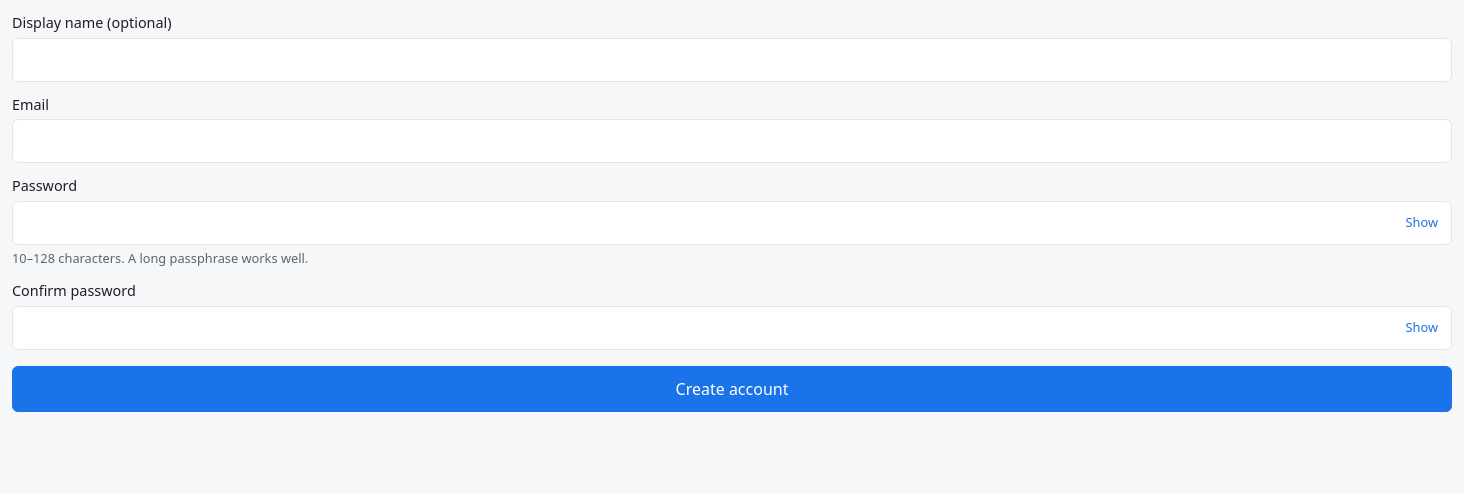
RegisterForm › shows the throttling message
Type "new@example.com" into the field labelled "Email" at (732, 141), box x1=12 y1=119 x2=1452 y2=163
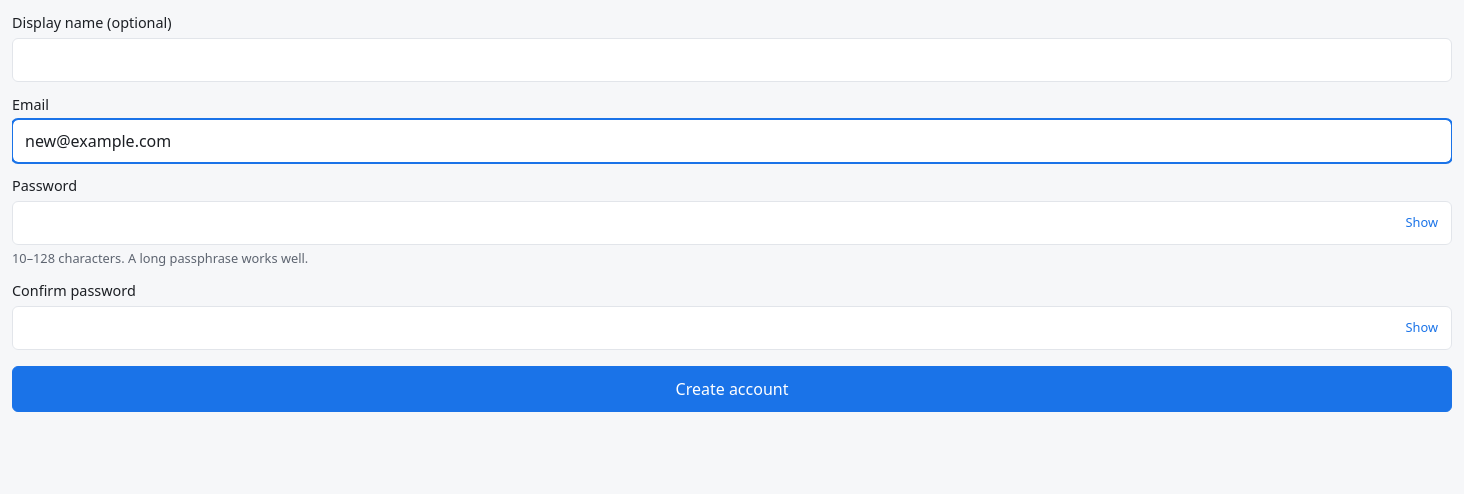
Type "long enough pw" into the password field labelled "Password" at (732, 223), box x1=12 y1=201 x2=1452 y2=245
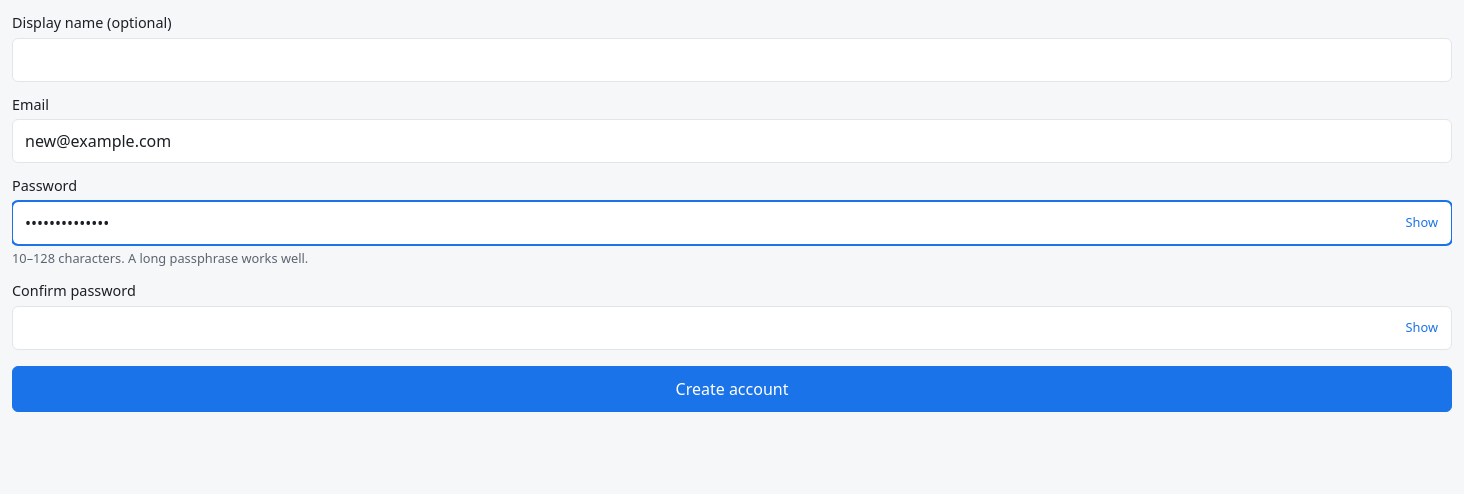
Type "long enough pw" into the password field labelled "Confirm password" at (732, 328), box x1=12 y1=306 x2=1452 y2=350
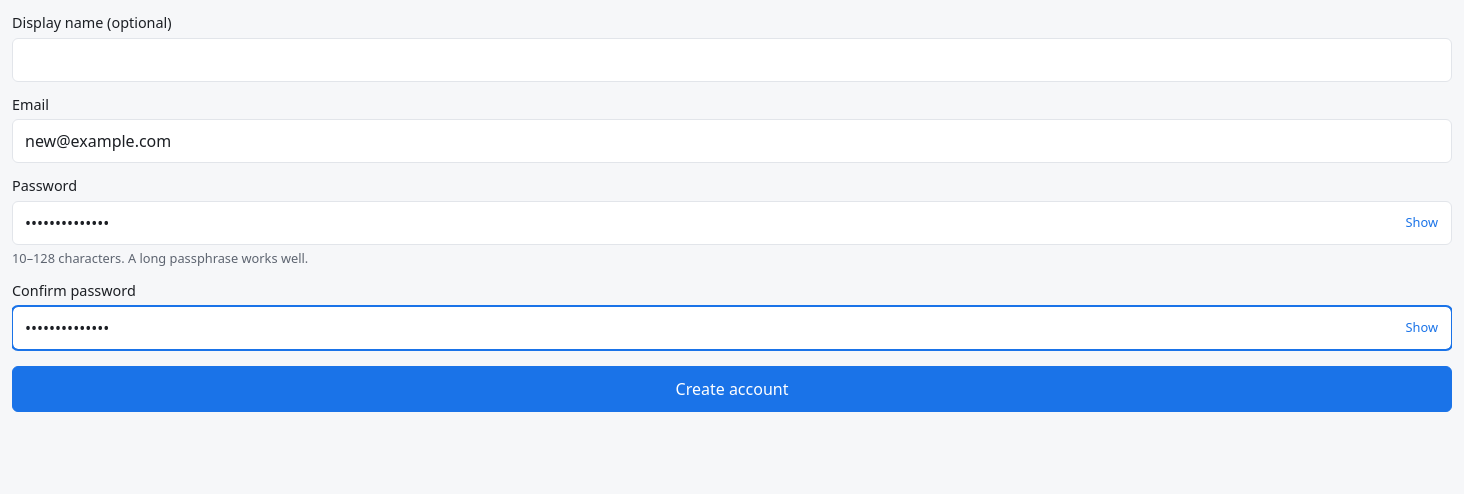
Click the button "Create account" at (732, 389), box x1=12 y1=366 x2=1452 y2=412
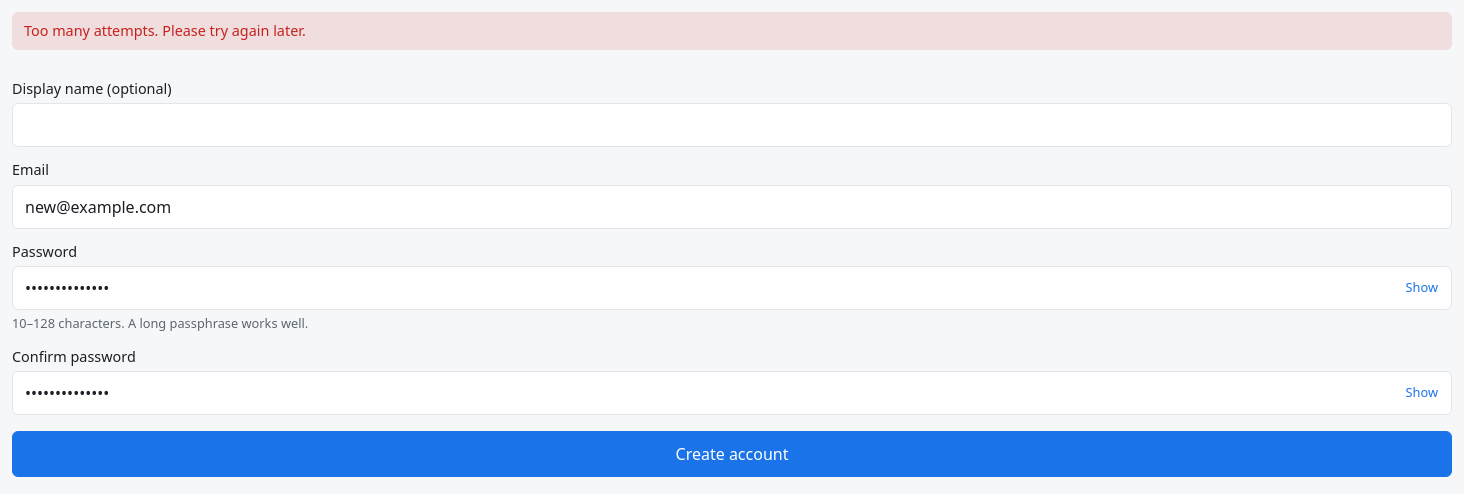
Result: the message reads "Too many attempts. Please try again later." at x1=24 y1=21 x2=306 y2=40
